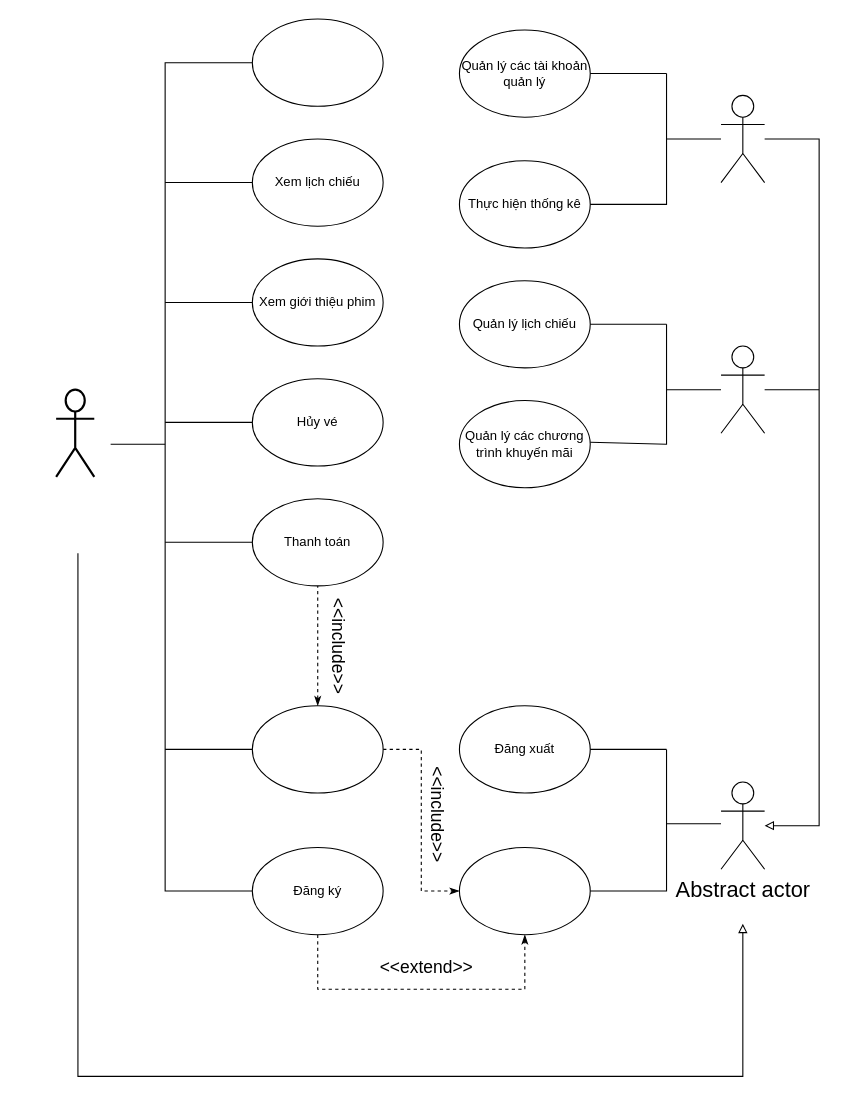
Image size: 847x1104. Some labels were removed from this diagram. Here are the shapes that lost their labels. From the top down, the box of each, then its label:
(251, 18, 383, 106): Xem khuyến mãi
(720, 94, 765, 183): Admin
(720, 345, 765, 433): Quản lý rạp phim
(55, 388, 95, 477): Khách hàng của rạp phim
(251, 705, 383, 793): Đặt vé
(458, 846, 590, 935): Đăng nhập
